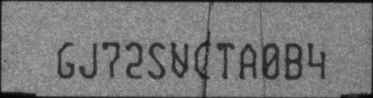0: (262, 42, 280, 80)
2: (125, 41, 143, 80)
4: (308, 42, 326, 79)
7: (102, 40, 119, 78)
A: (238, 43, 258, 80)
B: (284, 42, 303, 80)
C: (193, 41, 211, 80)
G: (57, 41, 75, 79)
J: (78, 41, 98, 78)
S: (147, 41, 166, 80)
T: (216, 42, 234, 81)
V: (170, 41, 188, 78)
